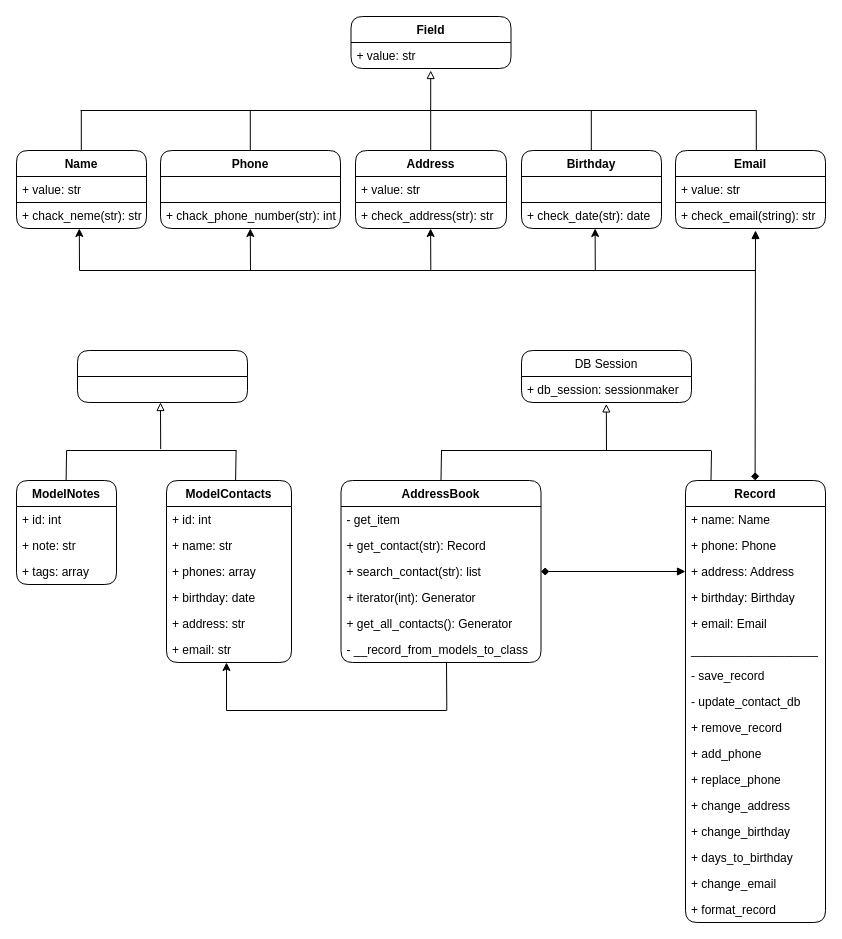
The diagram is 842 pixels wide and 939 high, and some of its shapes have lost their labels. Each missing label, with the centre of its shape:
"+ value: date" goes at (x=591, y=189).
"+ value: int" goes at (x=250, y=189).
"Base" goes at (x=162, y=376).
